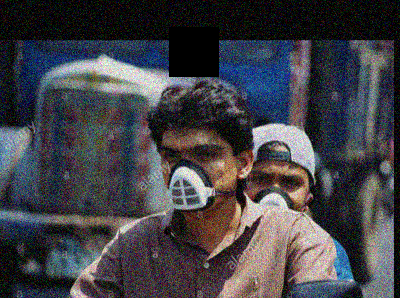with_mask: (159, 140, 236, 215), (247, 165, 308, 212)
